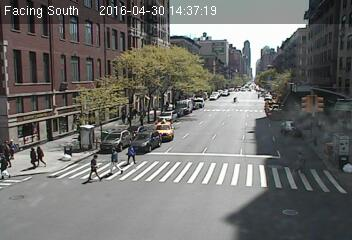neg: (322, 116, 345, 147), (263, 76, 279, 98), (69, 127, 84, 146), (303, 112, 317, 130), (164, 72, 178, 90), (288, 95, 298, 109), (254, 88, 263, 99), (232, 90, 240, 102), (233, 72, 241, 83)
pos: (82, 148, 109, 184), (103, 144, 126, 174), (122, 139, 141, 166), (31, 142, 49, 166), (25, 145, 42, 168), (3, 136, 19, 157)
